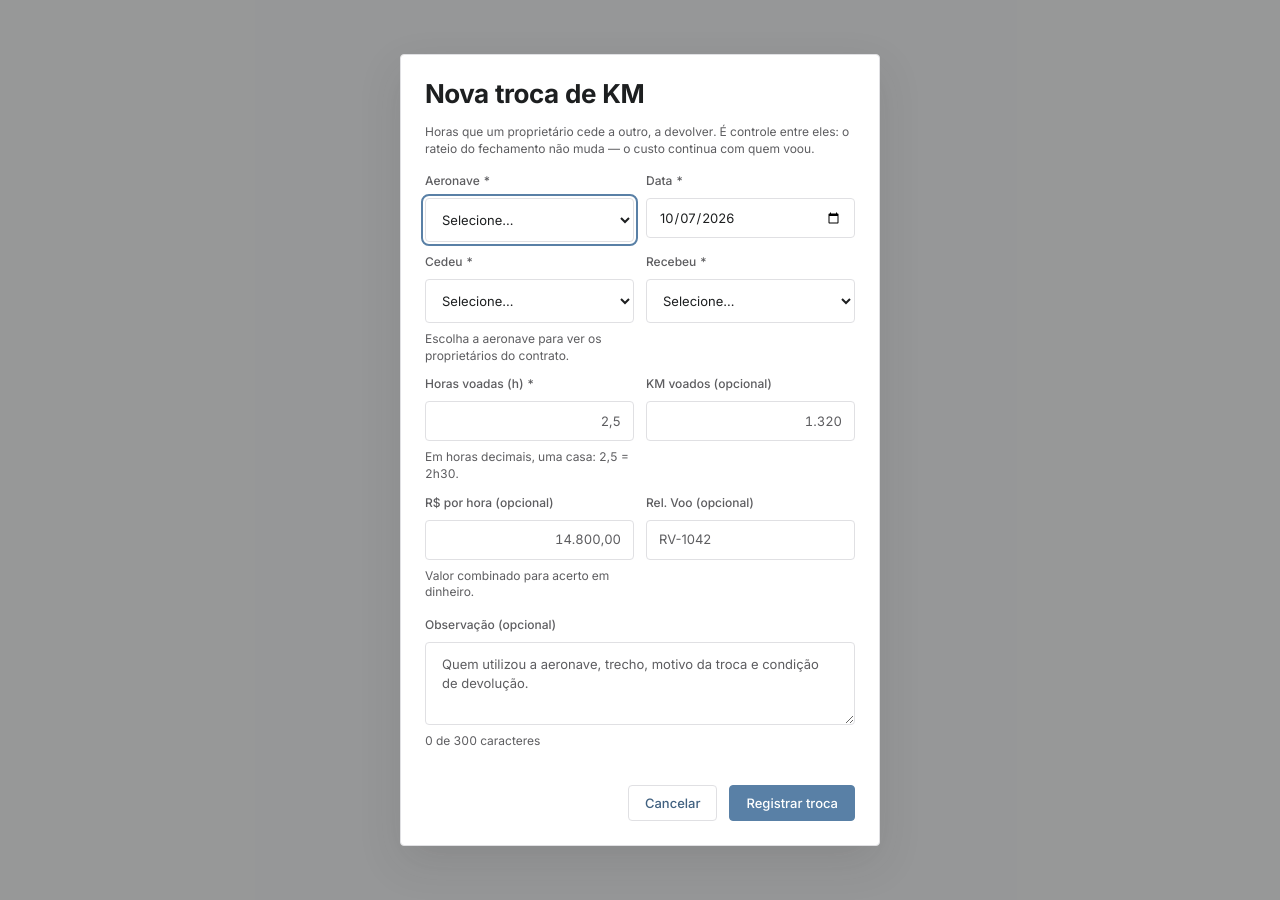
Test: PainelDeTroca › salvar vazio leva o foco à Aeronave e o resumo diz o que falta, sem ir ao servidor
Click the button "Registrar troca" at (792, 803), box [730,785,855,821]
(page scrolled)
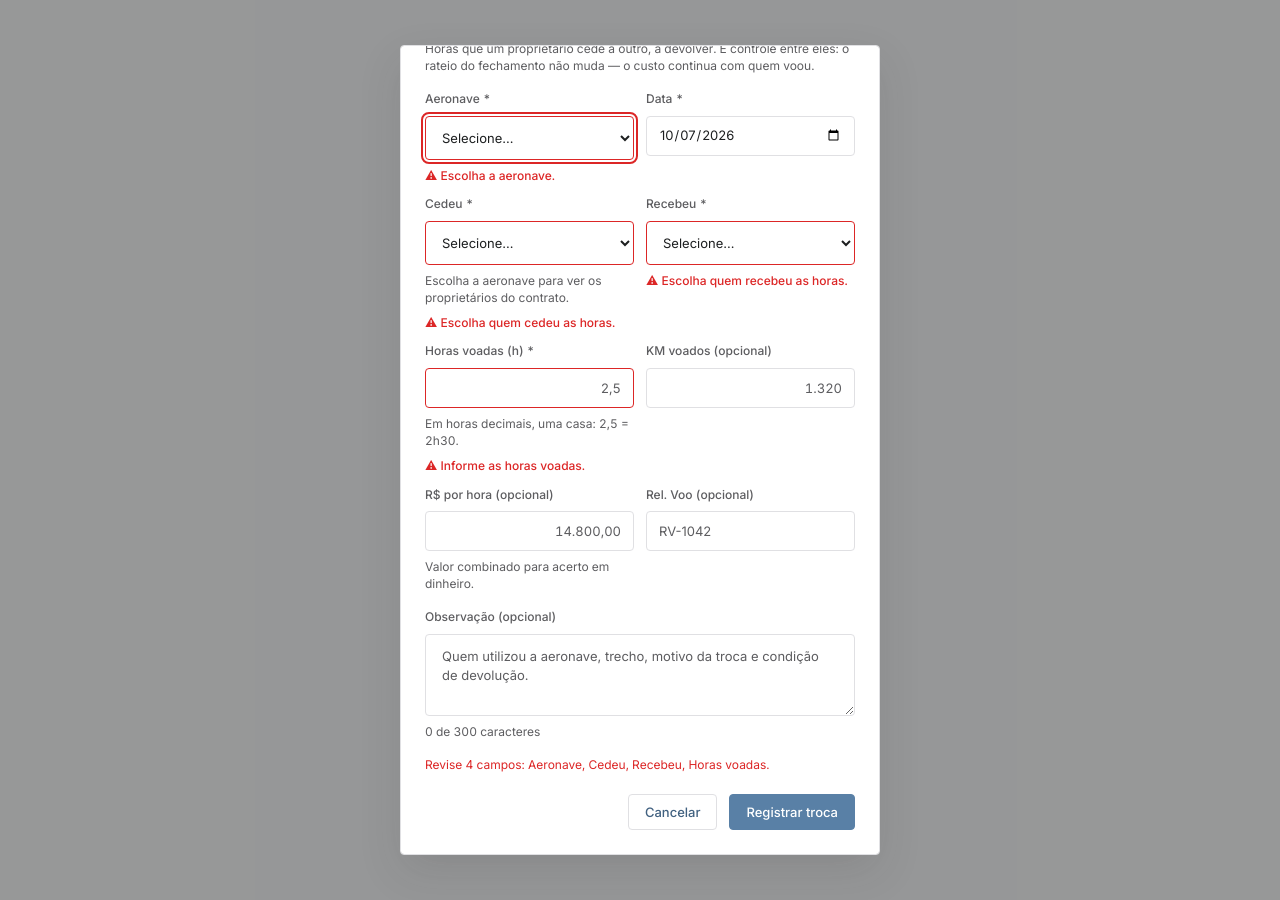
Expected: the message reads "Revise 4 campos: Aeronave, Cedeu, Recebeu, Horas voadas.", [425,757,770,772]
